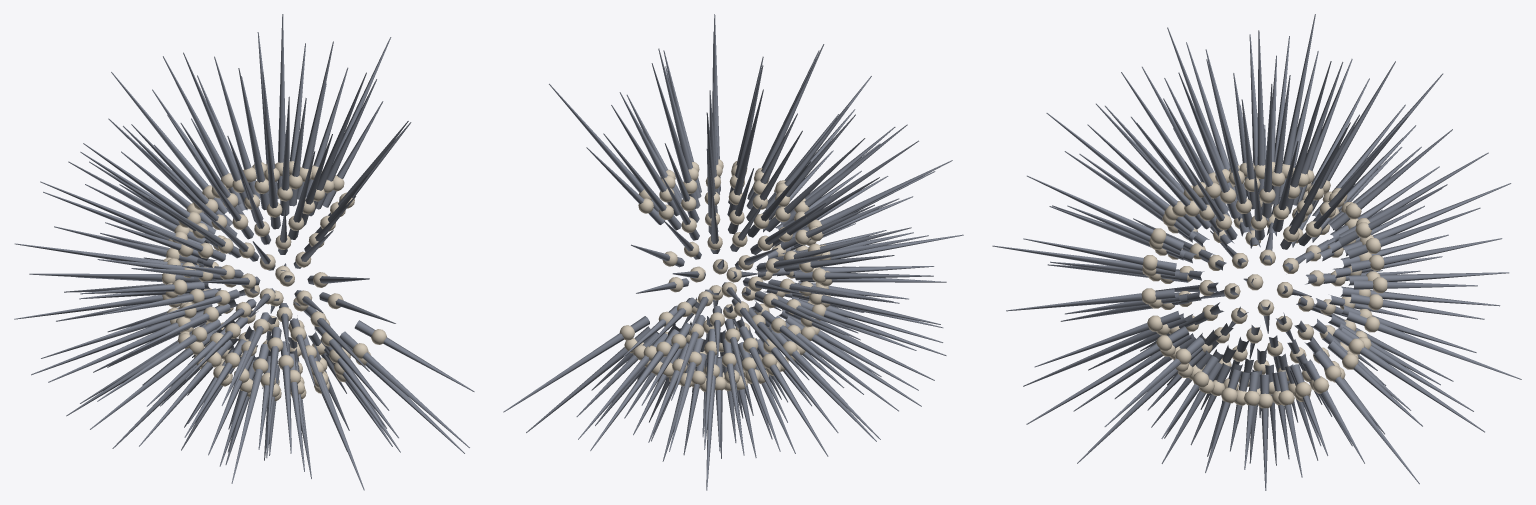
Rendered from creature.urchinspines.glb.
3 renders of one model, left to right at view 1: azimuth 30°, elevation 25°; view 2: azimuth 150°, elevation 25°; view 3: azimuth 270°, elevation 25°, orthographic. The views are drawn at different scales.
Visible parts, largest first — view 1: BackSkin, Skin; view 2: BackSkin, Skin; view 3: BackSkin, Skin.
Part boxes in pixels (<box>): BackSkin: <box>14,14,474,490</box>; Skin: <box>162,161,386,401</box>; BackSkin: <box>503,14,963,490</box>; Skin: <box>619,159,832,391</box>; BackSkin: <box>992,14,1521,490</box>; Skin: <box>1141,162,1387,408</box>.
Bounding box in the file's own units: 3.67 × 3.93 × 4.42.
